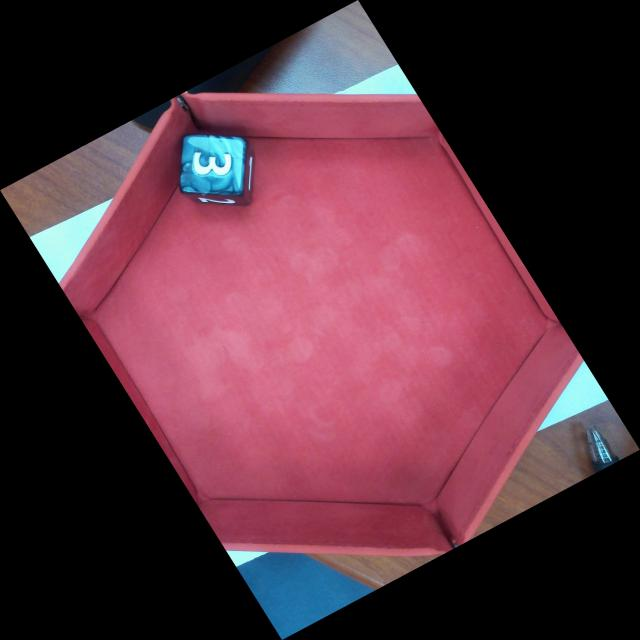dice: (178, 132, 249, 198)
